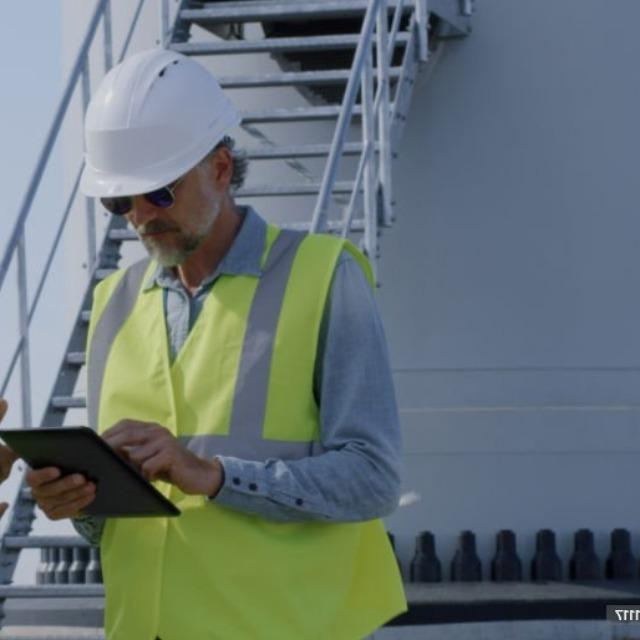Con_Casco: (78, 45, 248, 263)
Con_Chaleco: (85, 222, 379, 640)
